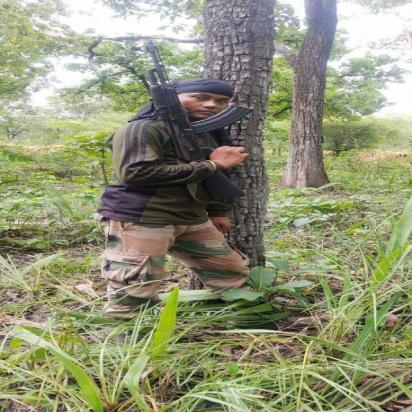Gun: (129, 41, 248, 202)
